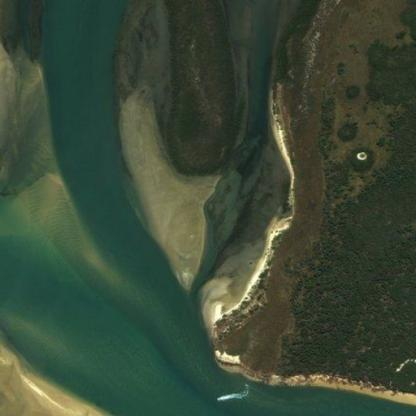ship: (213, 390, 228, 405)
